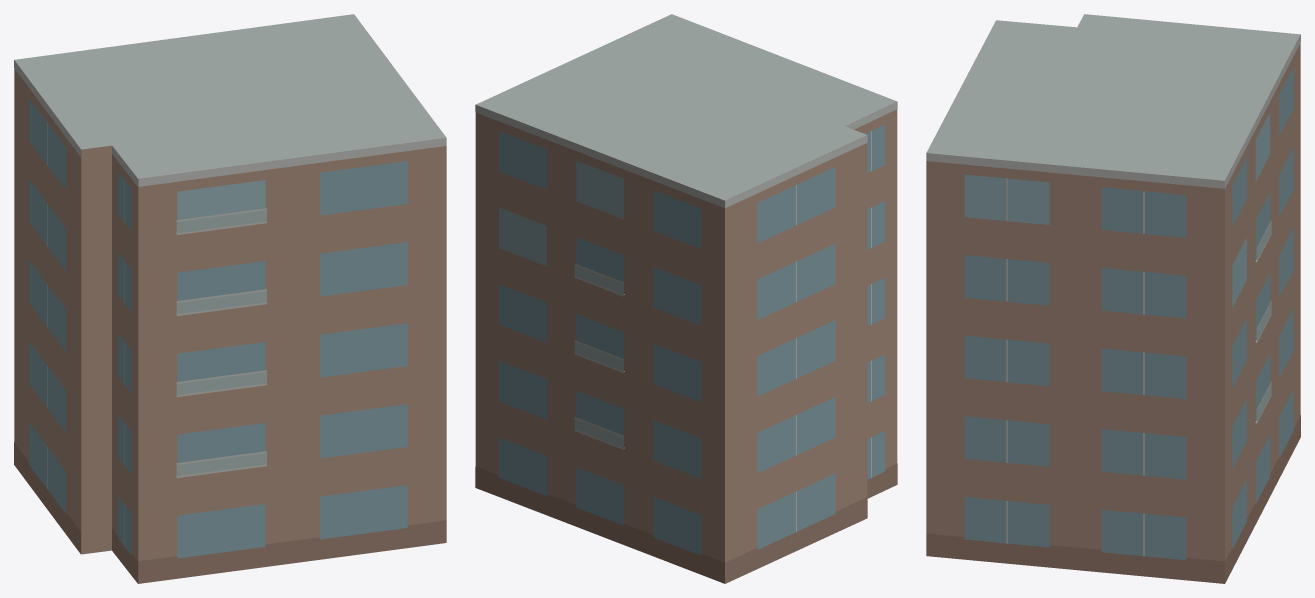
Rendered from survey-upis-32997361.glb.
3 renders of one model, left to right at view 1: azimuth 30°, elevation 25°; view 2: azimuth 150°, elevation 25°; view 3: azimuth 270°, elevation 25°, orthographic. The views are drawn at different scales.
Parts seen in each view (by area): view 1: survey-upis-32997361.tmp; view 2: survey-upis-32997361.tmp; view 3: survey-upis-32997361.tmp.
Boxes of the visible parts, bbox=[...] form: survey-upis-32997361.tmp: bbox=[14, 14, 446, 583]; survey-upis-32997361.tmp: bbox=[475, 14, 897, 583]; survey-upis-32997361.tmp: bbox=[926, 14, 1300, 583].
Bounding box in the file's own units: 10.93 × 12.3 × 10.37.
